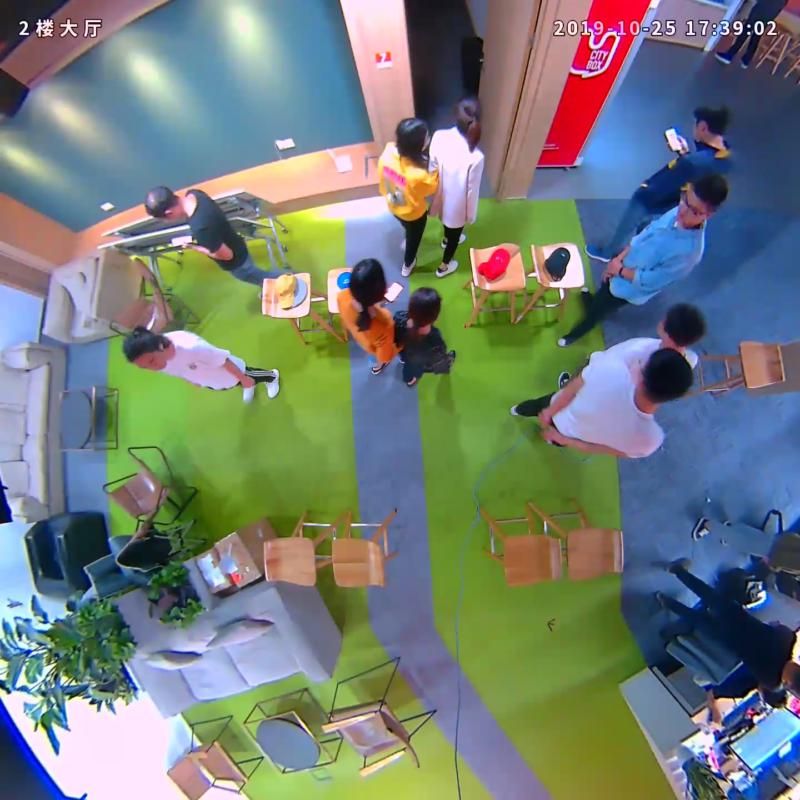head: (635, 347, 693, 402), (677, 174, 728, 227), (122, 326, 168, 371), (657, 303, 705, 346), (350, 258, 386, 306), (693, 102, 728, 143), (394, 116, 430, 155), (145, 185, 182, 221), (409, 286, 441, 325), (452, 96, 482, 130)
